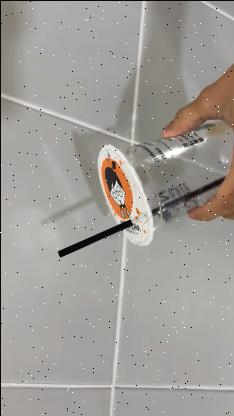Others: (78, 114, 232, 246)
